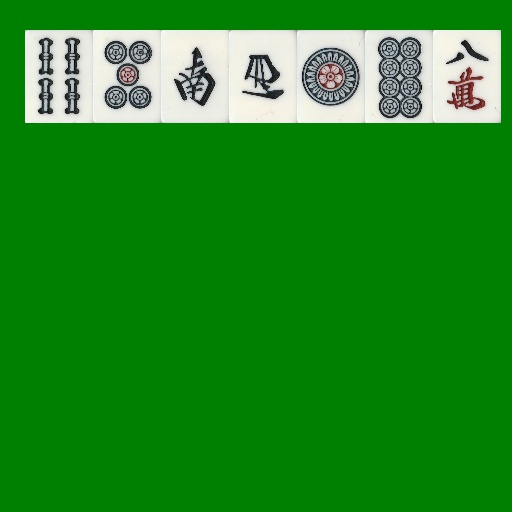1p: (297, 30, 365, 123)
4s: (25, 30, 93, 123)
5p: (93, 30, 161, 123)
8m: (433, 30, 501, 123)
8p: (365, 30, 433, 123)
south: (161, 30, 229, 123)
west: (229, 30, 297, 123)
